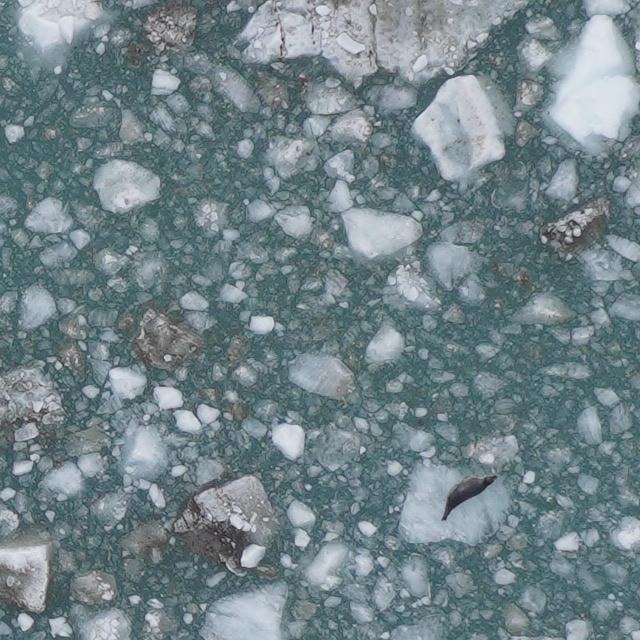seal: (440, 471, 502, 524)
